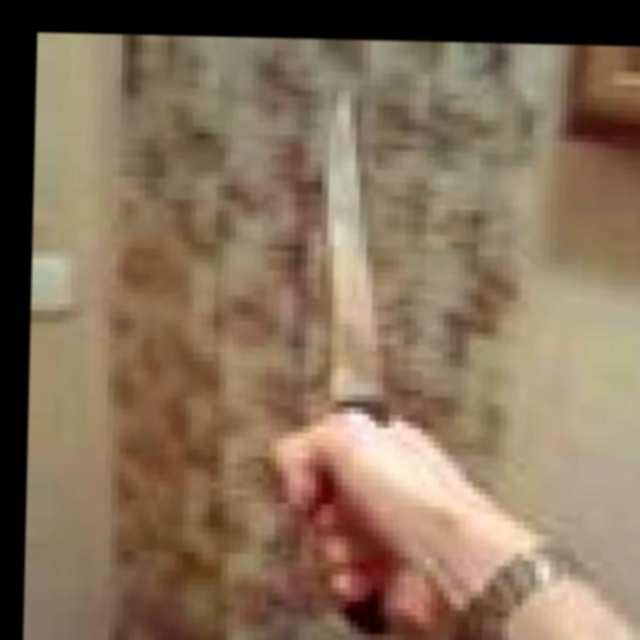Sharp-Object: (308, 96, 398, 640)
